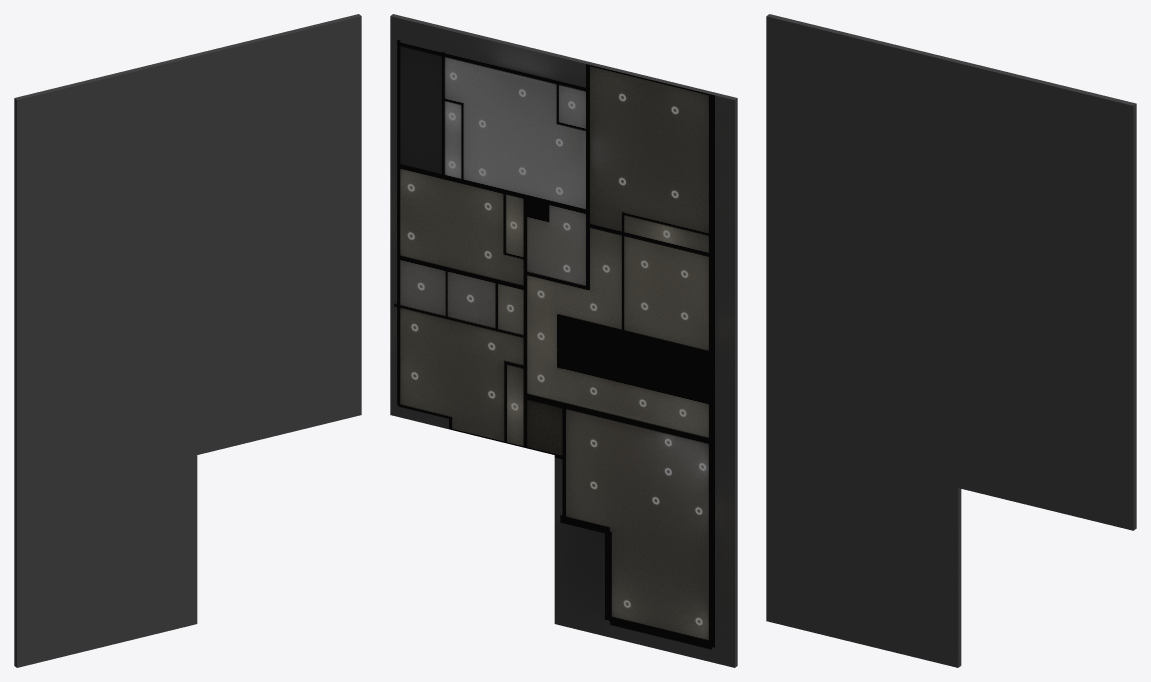
Rendered from ceiling_vm.obj.
3 views of the same model, side by side, from view 1: azimuth 30°, elevation 25°; view 2: azimuth 150°, elevation 25°; view 3: azimuth 330°, elevation 25° (orthographic). The views are drawn at different scales.
Bounding box in the file's own units: 13.43 × 21.14 × 0.2.
Materials: 1 (1 with a texture image).
